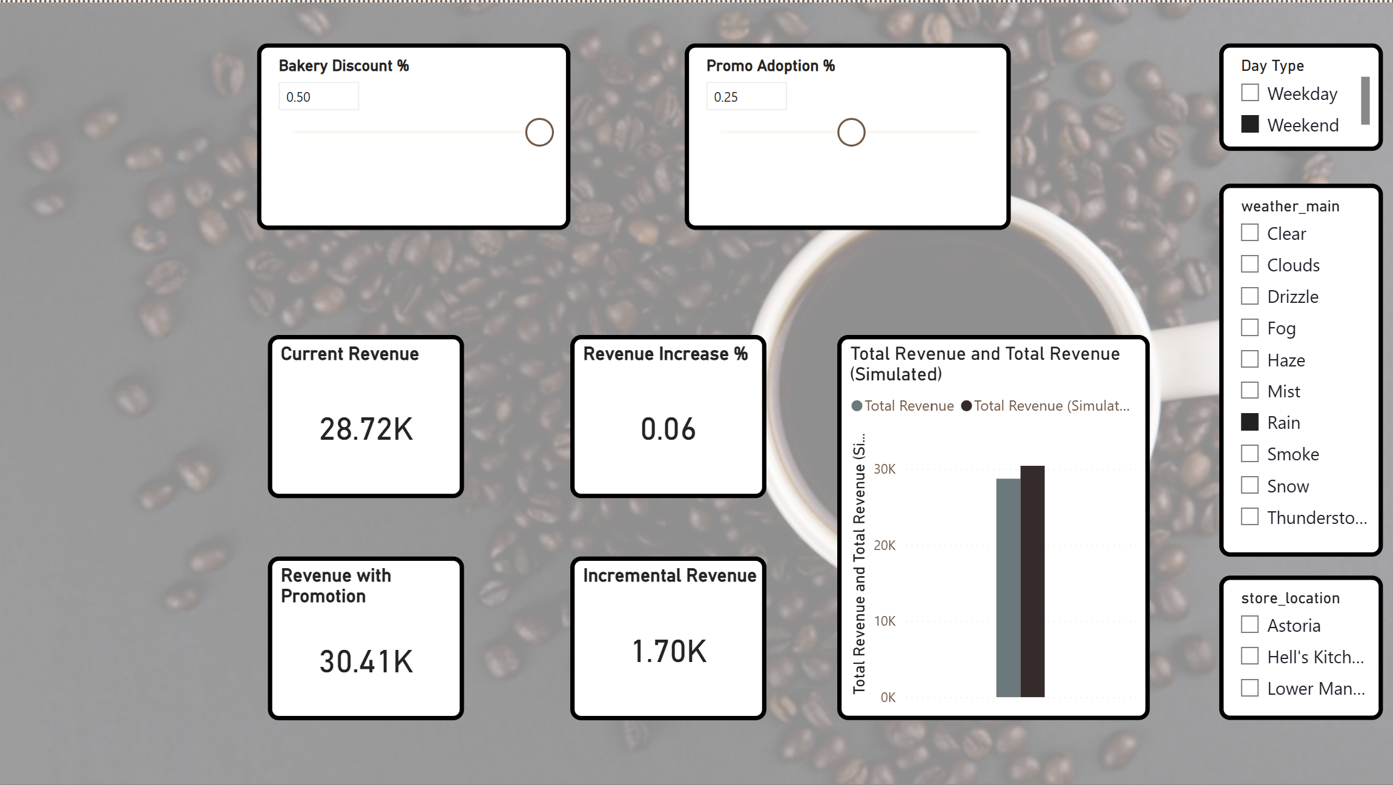

The page's visual inventory and layout, read from the dashboard file:
{"tool":"powerbi","page":{"name":"4.Dashboard Scenario","canvas":[1280,720],"ordinal":3},"visuals":[{"type":"slicer","fields":{"Values":["Promo Adoption %.Promo Adoption %"]},"box":[630,37.5,298.8,171.2],"z":0},{"type":"slicer","fields":{"Values":["Discount %.Discount %"]},"box":[237.5,37.5,287.5,171.2],"z":1000},{"type":"slicer","fields":{"Values":["us_calendar_jan_jun_2023_with_r.Day Type"]},"box":[1120,37.5,150,98.8],"z":2000},{"type":"slicer","fields":{"Values":["New York Weather Data.weather_main"]},"box":[1120,166.2,150,342.5],"z":3000},{"type":"slicer","fields":{"Values":["Transactions.store_location"]},"box":[1120,526.2,150,132.5],"z":4000},{"type":"card","title":"Current Revenue","fields":{"Values":["Transactions.Total Revenue"]},"box":[247.5,305,180,150],"z":5000},{"type":"card","title":"Revenue with Promotion","fields":{"Values":["Transactions.Total Revenue (Simulated)"]},"box":[247.5,508.8,180,150],"z":6000},{"type":"card","title":"Incremental Revenue","fields":{"Values":["Transactions.Extra Revenue"]},"box":[525,508.8,180,150],"z":7000},{"type":"card","title":"Revenue Increase %","fields":{"Values":["Transactions.Revenue Increase %"]},"box":[525,305,180,150],"z":8000},{"type":"clusteredColumnChart","fields":{"Y":["Transactions.Total Revenue","Transactions.Total Revenue (Simulated)"]},"box":[770,305,286.2,353.8],"z":9000}]}

Visuals, with their boxes in screenshot pixels (x1, y1, x2, y2), scaled from the page's 1280x720 canvas onto the 1393x785 screenshot:
slicer - Promo Adoption %.Promo Adoption %: (686,41,1011,228)
slicer - Discount %.Discount %: (258,41,571,228)
slicer - us_calendar_jan_jun_2023_with_r.Day Type: (1219,41,1382,149)
slicer - New York Weather Data.weather_main: (1219,181,1382,555)
slicer - Transactions.store_location: (1219,574,1382,718)
"Current Revenue" card: (269,333,465,496)
"Revenue with Promotion" card: (269,555,465,718)
"Incremental Revenue" card: (571,555,767,718)
"Revenue Increase %" card: (571,333,767,496)
clusteredColumnChart - Transactions.Total Revenue x Transactions.Total Revenue (Simulated): (838,333,1149,718)
